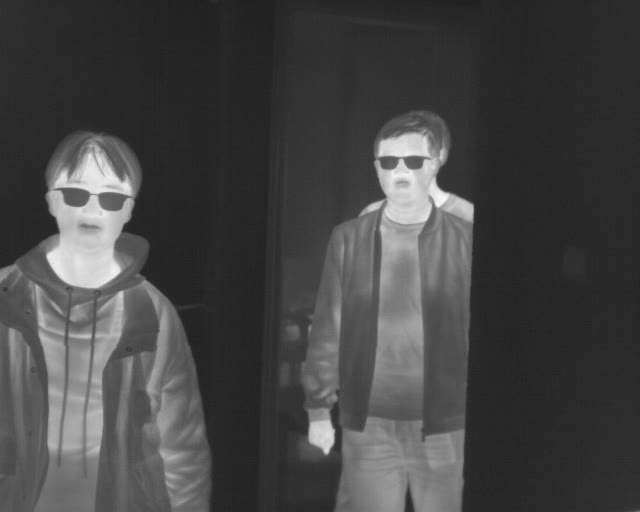face: (44, 129, 140, 253), (372, 113, 444, 205)
